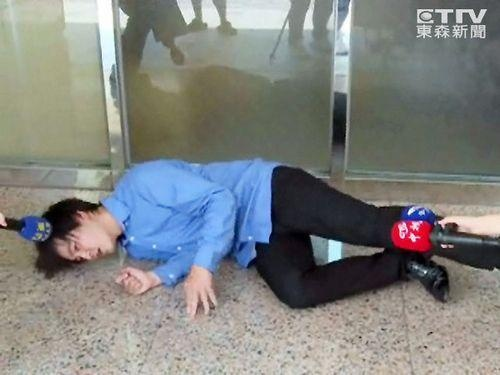falling: (10, 137, 475, 324)
